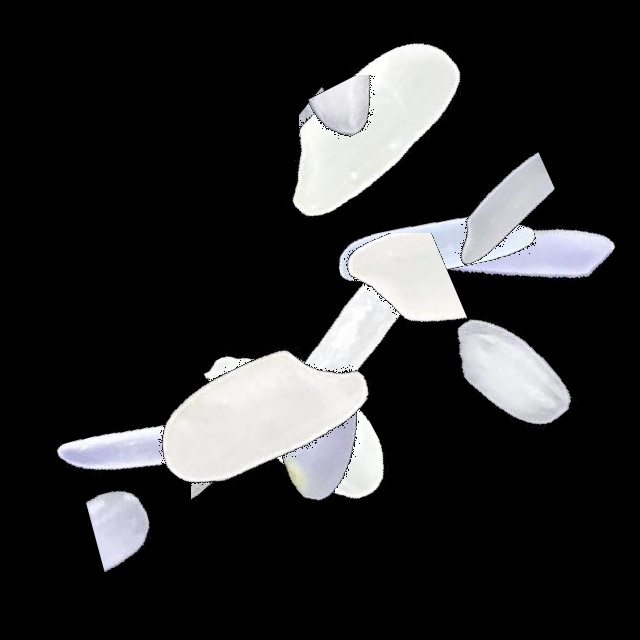Broken: (352, 137, 602, 304), (191, 329, 325, 579), (31, 457, 281, 584), (265, 233, 515, 356), (244, 75, 494, 182), (299, 5, 386, 255)
Full: (247, 1, 497, 251), (386, 122, 636, 372), (312, 122, 562, 372), (383, 246, 633, 496), (176, 299, 426, 549), (230, 208, 480, 458), (194, 315, 444, 565), (36, 318, 286, 568), (135, 291, 385, 541)
